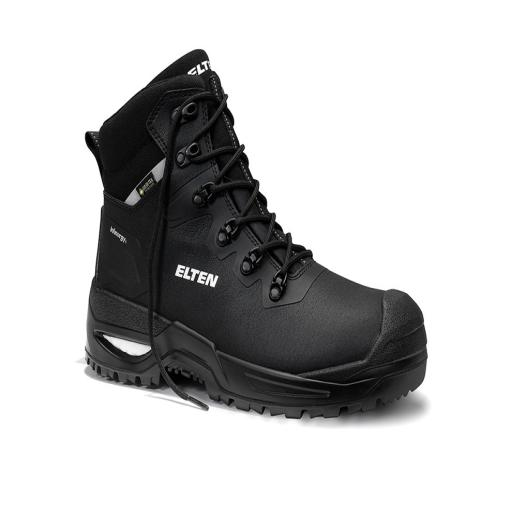safety_boots: (75, 37, 434, 429)
